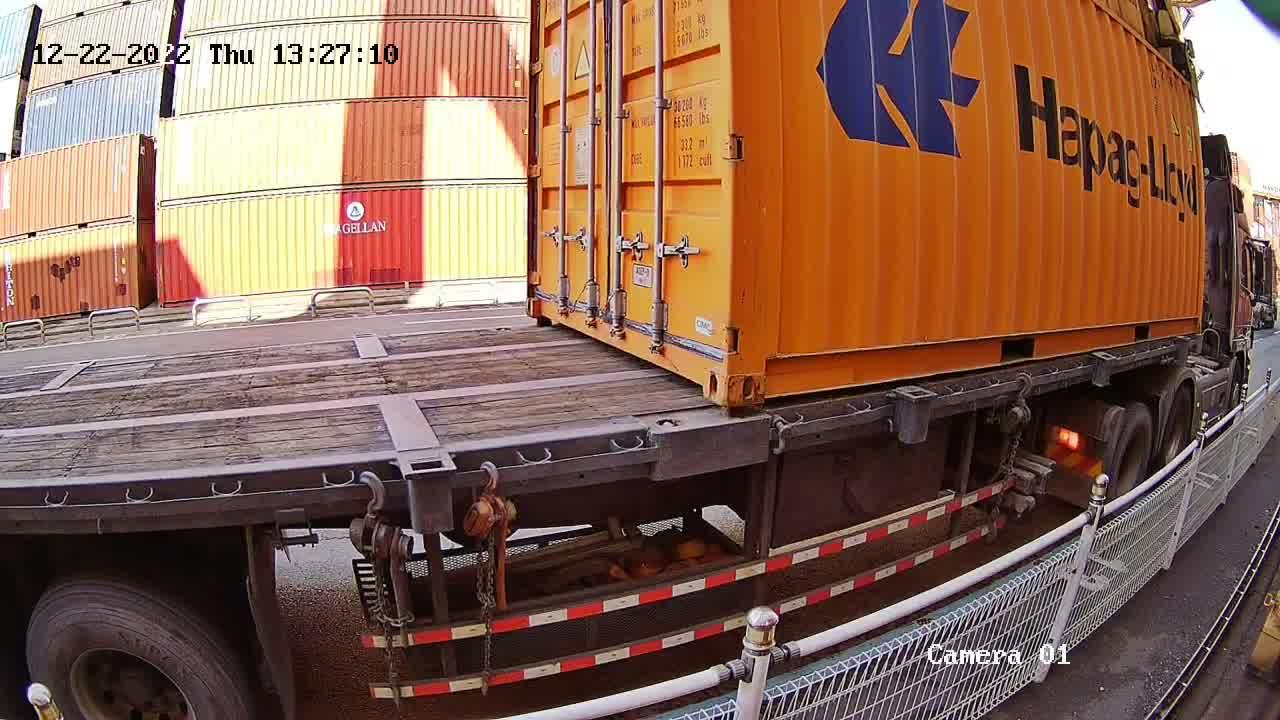Chassis: (493, 326, 691, 431)
Cone: (653, 417, 683, 477)
Hole_L: (727, 326, 796, 403), (526, 277, 560, 325)
Hole_R: (674, 315, 728, 402)
Tire: (1110, 407, 1154, 513), (1160, 389, 1193, 484)
